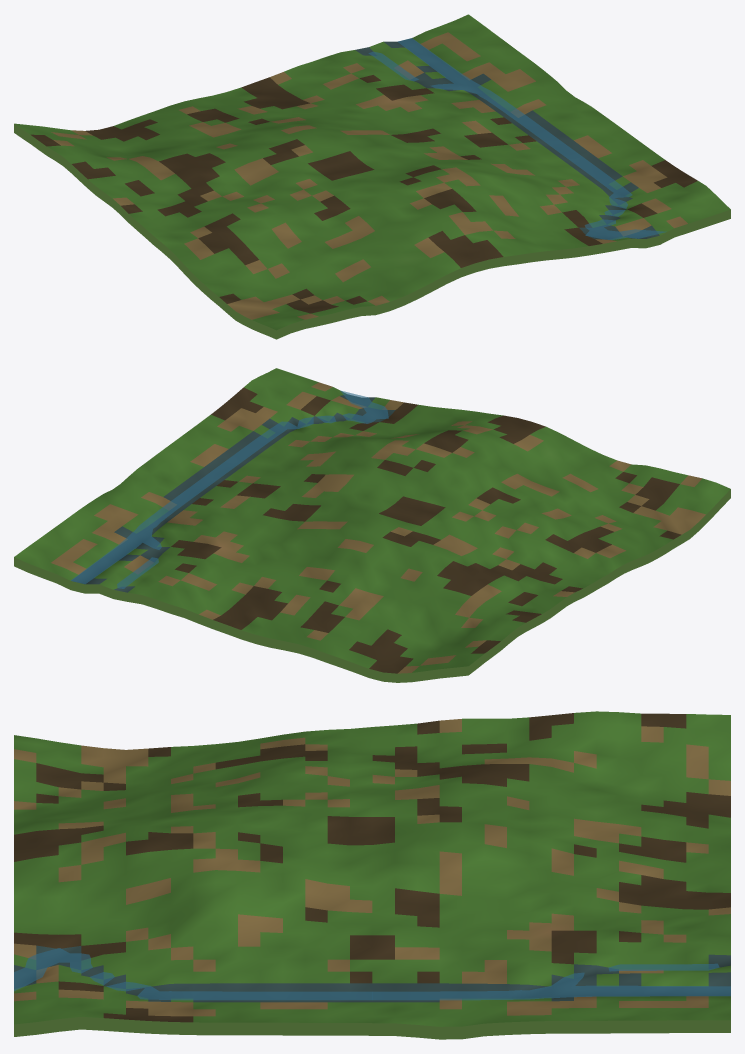
File: chunk_1_4_lod1.glb
3 views of the same model, one above another, from view 1: azimuth 30°, elevation 25°; view 2: azimuth 150°, elevation 25°; view 3: azimuth 270°, elevation 25° (orthographic). The views are drawn at different scales.
Visible parts, largest first — view 1: Surface_Grass, Surface_Dirt, Surface_Mud, Skirt, Surface_Water, Water; view 2: Surface_Grass, Surface_Dirt, Surface_Mud, Skirt, Surface_Water, Water; view 3: Surface_Grass, Surface_Dirt, Surface_Mud, Surface_Water, Skirt, Water.
Boxes of the visible parts, x1,y1,x2,y2 form: Surface_Grass: [14, 14, 730, 330]; Surface_Dirt: [51, 32, 687, 319]; Surface_Mud: [31, 75, 697, 313]; Skirt: [14, 124, 730, 339]; Surface_Water: [355, 38, 659, 239]; Water: [368, 38, 666, 239]; Surface_Grass: [14, 368, 730, 672]; Surface_Dirt: [51, 382, 705, 673]; Surface_Mud: [171, 387, 681, 673]; Skirt: [14, 489, 730, 682]; Surface_Water: [71, 394, 395, 592]; Water: [71, 390, 388, 588]; Surface_Grass: [14, 711, 730, 1026]; Surface_Dirt: [14, 719, 730, 1016]; Surface_Mud: [14, 713, 730, 1022]; Surface_Water: [14, 945, 730, 1002]; Skirt: [14, 1017, 730, 1039]; Water: [14, 948, 730, 1000].
Size of the model in its own units: 256 by 30.26 by 256.
